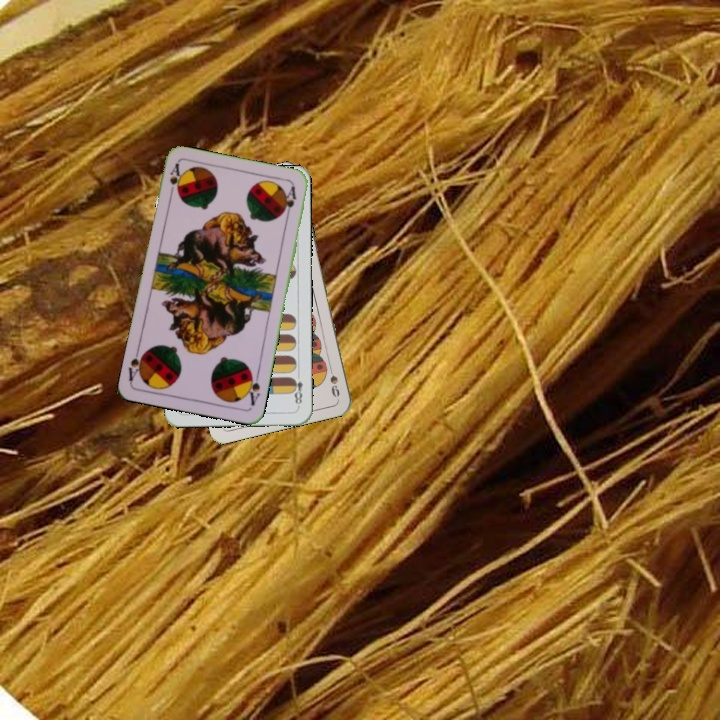E8: (288, 374, 305, 409)
S9: (325, 360, 342, 400)
SA: (242, 368, 262, 408), (166, 159, 184, 200)
